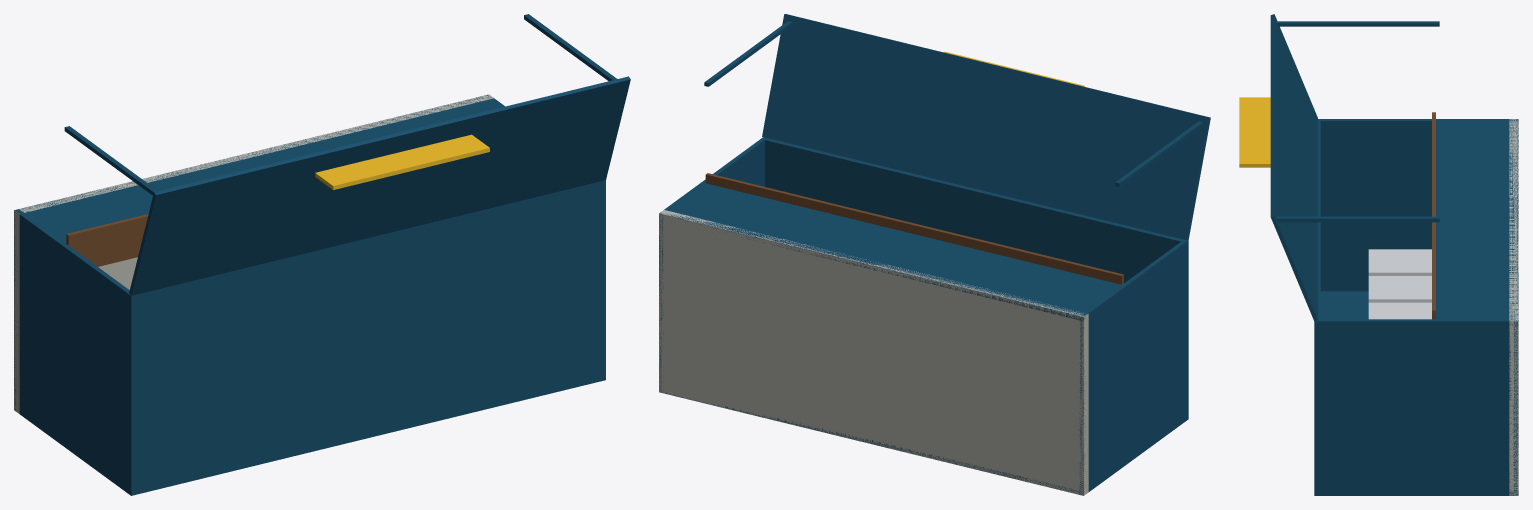
Rendered from Bar_Container.obj.
The picture shows the model from 3 angles, left to right: view 1: azimuth 30°, elevation 25°; view 2: azimuth 150°, elevation 25°; view 3: azimuth 270°, elevation 25°; orthographic projection. The views are drawn at different scales.
Visible parts, largest first — view 1: Dach, Klappe, Seite_links, Front_unten, Boden, Schild_BAR, Theke, Stuetze, Rueckwand; view 2: Boden, Klappe, Dach, Seite_links, Front_unten, Theke, Seite_rechts, Rueckwand, Stuetze; view 3: Seite_rechts, Front_unten, Seite_links, Klappe, Kuehlschrank, Boden, Rueckwand, Schild_BAR, Stuetze, Dach, Theke.
Boxes of the visible parts, x1,y1,x2,y2 form: Dach: (127,180,605,495); Klappe: (129,76,630,295); Seite_links: (14,209,135,495); Front_unten: (14,95,503,249); Boden: (14,94,493,413); Schild_BAR: (315,134,489,189); Theke: (66,214,148,266); Stuetze: (64,14,617,195); Rueckwand: (15,380,601,495); Boden: (659,210,1088,495); Klappe: (762,14,1210,240); Dach: (761,137,1188,328); Seite_links: (1079,240,1188,494); Front_unten: (660,183,1126,321); Theke: (705,173,1123,284); Seite_rechts: (659,139,764,392); Rueckwand: (666,393,1188,494); Stuetze: (704,21,1202,186); Seite_rechts: (1314,319,1518,495); Front_unten: (1436,119,1518,325); Seite_links: (1318,119,1518,291); Klappe: (1270,14,1317,321); Kuehlschrank: (1368,249,1431,319); Boden: (1509,119,1518,495); Rueckwand: (1314,291,1518,495); Schild_BAR: (1239,97,1270,167); Stuetze: (1276,21,1439,222); Dach: (1314,119,1320,495); Theke: (1432,112,1435,319).
Size of the model in its own units: 6.06 by 3.91 by 3.54.
